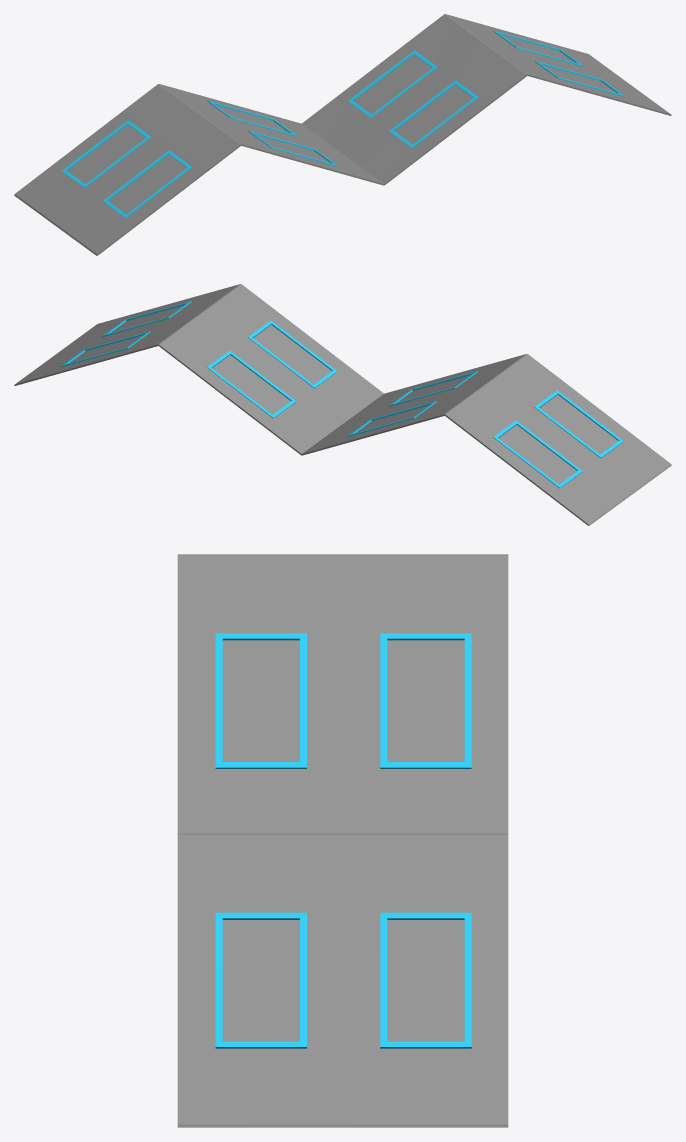
The model's file is WH_Roof_Double_Windows.FBX.
3 views of the same model, one above another, from view 1: azimuth 30°, elevation 25°; view 2: azimuth 150°, elevation 25°; view 3: azimuth 270°, elevation 25° (orthographic). The views are drawn at different scales.
Parts seen in each view (by area): view 1: WH_Roof_Double_Windows; view 2: WH_Roof_Double_Windows; view 3: WH_Roof_Double_Windows.
Boxes of the visible parts, box(x1,y1,x2,y2) form: WH_Roof_Double_Windows: box(14, 14, 671, 255); WH_Roof_Double_Windows: box(14, 284, 671, 525); WH_Roof_Double_Windows: box(177, 554, 508, 1127).
Size of the model in its own units: 2010 by 500 by 254.
